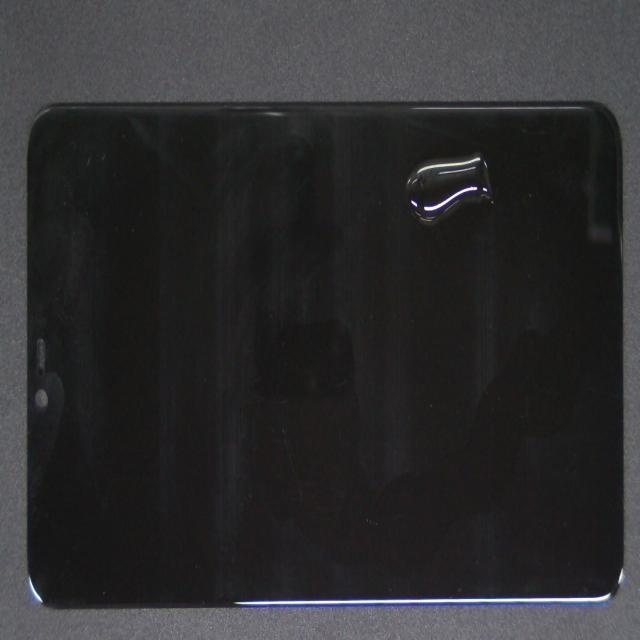oil: (249, 120, 640, 267)
